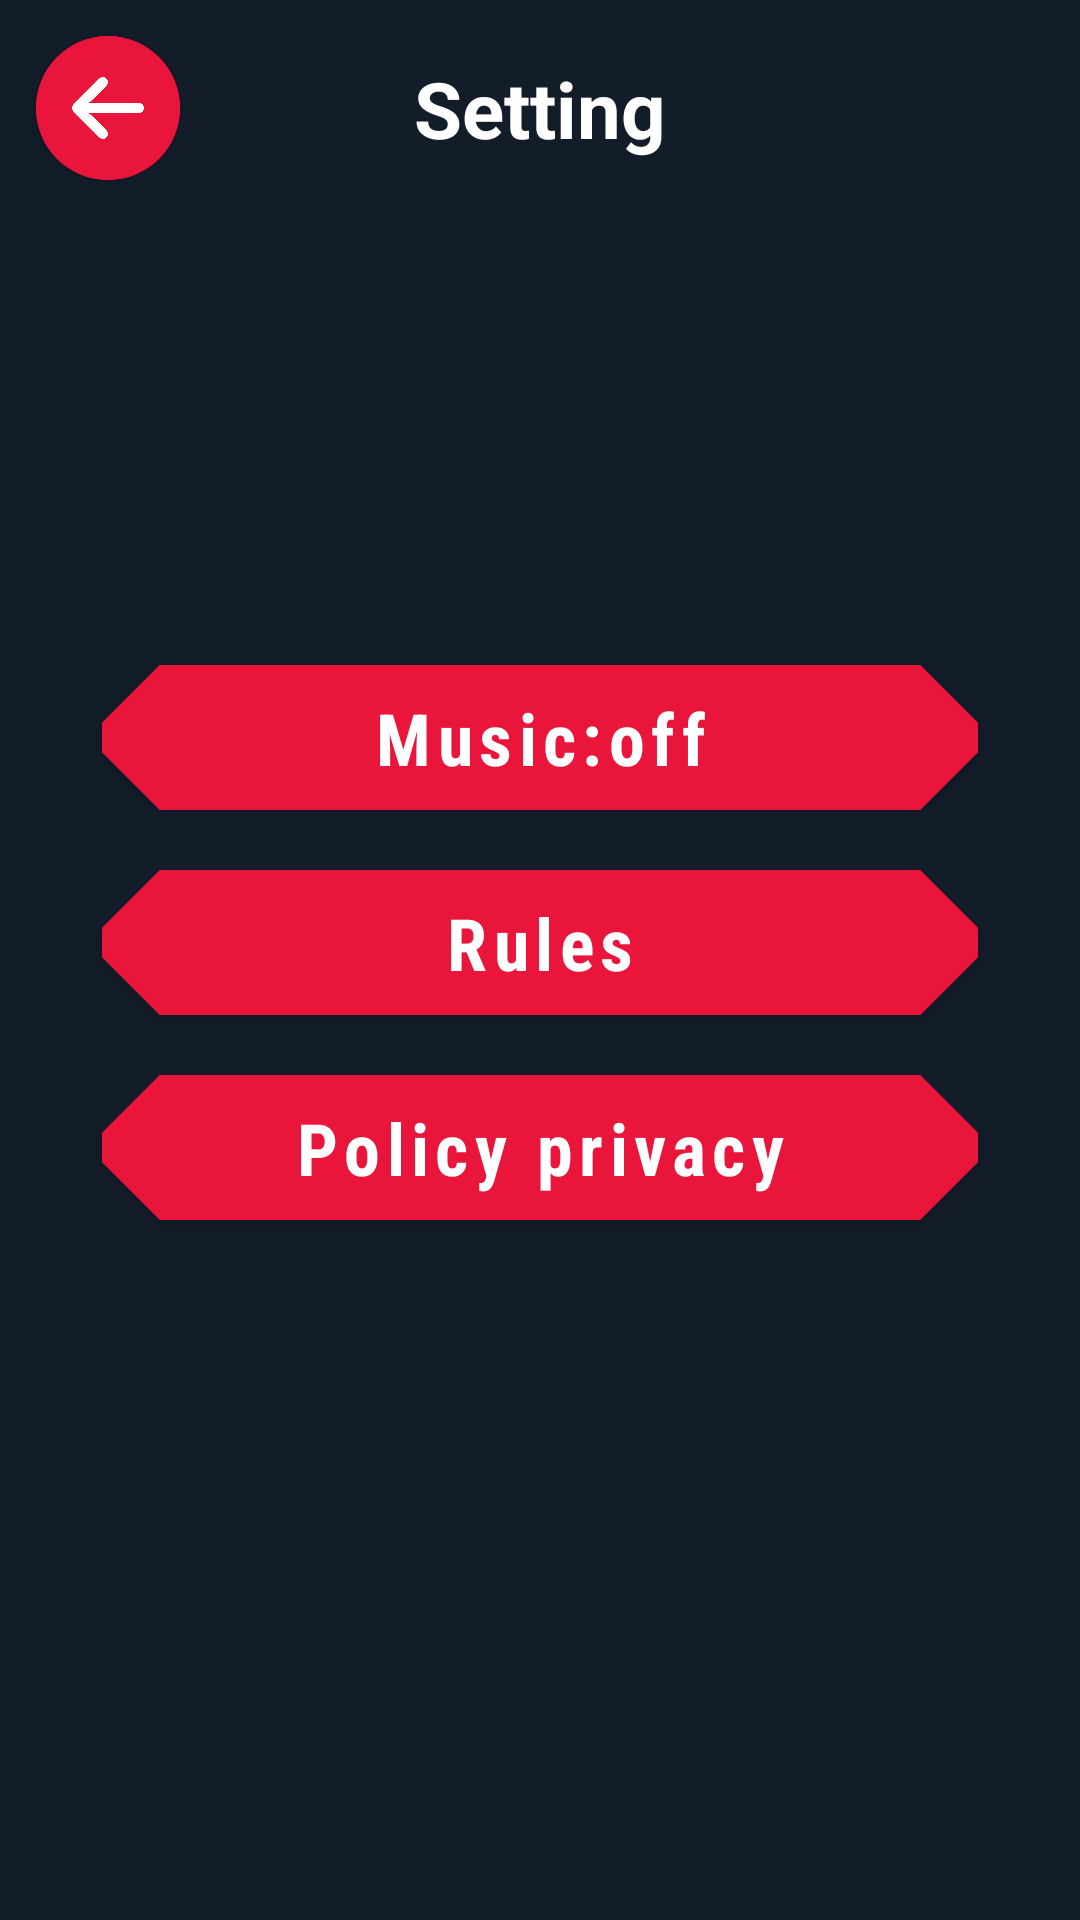

Icon click points for this 1080×1920 phone screenshot, format (x=x, y=y):
back: (x=108, y=108)
